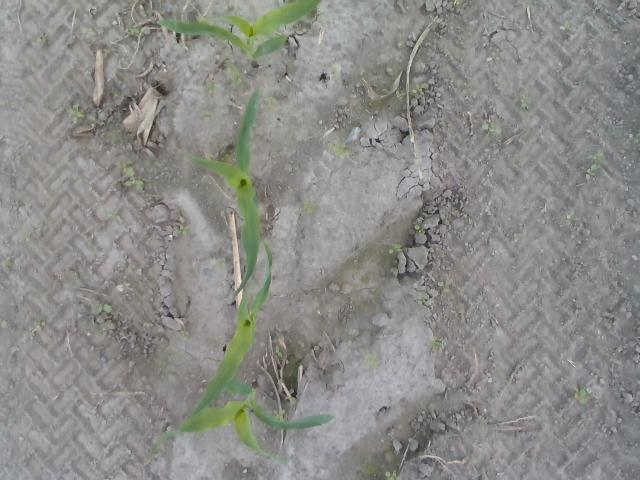Maize: (185, 86, 262, 300), (160, 371, 334, 464), (188, 240, 274, 418), (156, 1, 320, 62)
Weeds: (124, 166, 146, 192), (65, 102, 86, 126), (227, 64, 244, 84), (331, 142, 352, 158), (590, 150, 605, 172), (94, 300, 114, 316), (482, 121, 504, 135), (386, 243, 404, 256), (576, 387, 588, 406), (107, 208, 122, 222), (411, 82, 428, 94), (518, 94, 530, 111), (177, 222, 191, 236), (626, 132, 640, 144), (272, 408, 286, 420), (303, 200, 317, 212), (438, 280, 450, 293), (367, 354, 378, 368), (128, 24, 145, 33), (384, 470, 398, 480), (417, 294, 428, 306), (414, 224, 426, 235), (207, 82, 215, 92), (276, 352, 284, 360)
